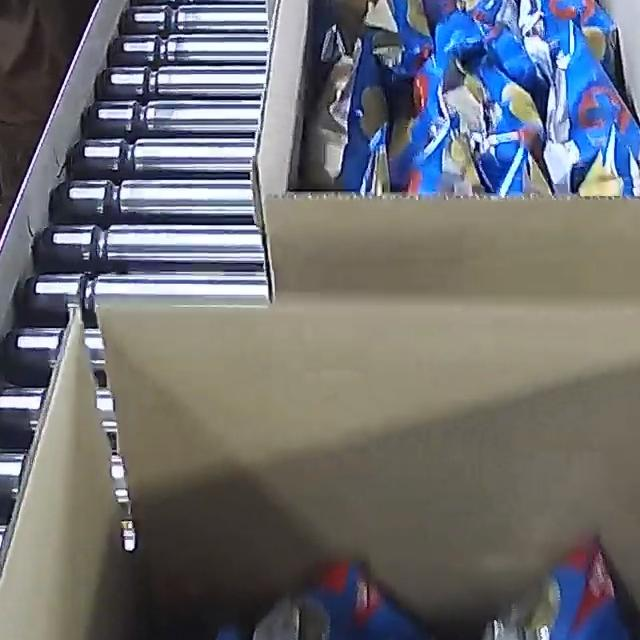paprika: (309, 0, 640, 198), (110, 534, 640, 640)
